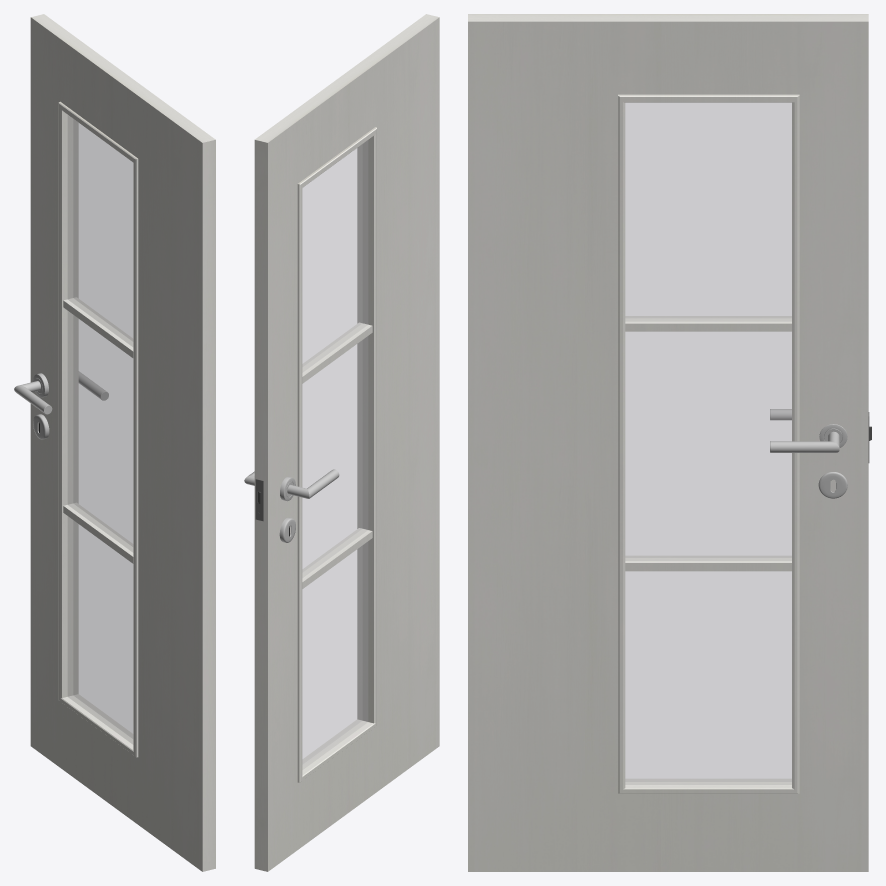
The model's file is door28.glb.
3 views of the same model, side by side, from view 1: azimuth 30°, elevation 25°; view 2: azimuth 150°, elevation 25°; view 3: azimuth 270°, elevation 25° (orthographic). The views are drawn at different scales.
Parts seen in each view (by area): view 1: TB-LA3S-DQ+SP20, Door_Handle_01; view 2: TB-LA3S-DQ+SP20, Door_Handle_01; view 3: TB-LA3S-DQ+SP20, Door_Handle_01.
Boxes of the visible parts, bbox=[...] form: TB-LA3S-DQ+SP20: bbox=[30, 14, 215, 871]; Door_Handle_01: bbox=[14, 371, 108, 439]; TB-LA3S-DQ+SP20: bbox=[254, 14, 439, 871]; Door_Handle_01: bbox=[244, 469, 339, 542]; TB-LA3S-DQ+SP20: bbox=[468, 14, 871, 871]; Door_Handle_01: bbox=[770, 409, 847, 498].
Bounding box in the file's own units: 0.1566 × 1.67 × 0.7188.
6 materials, 1 textured.
